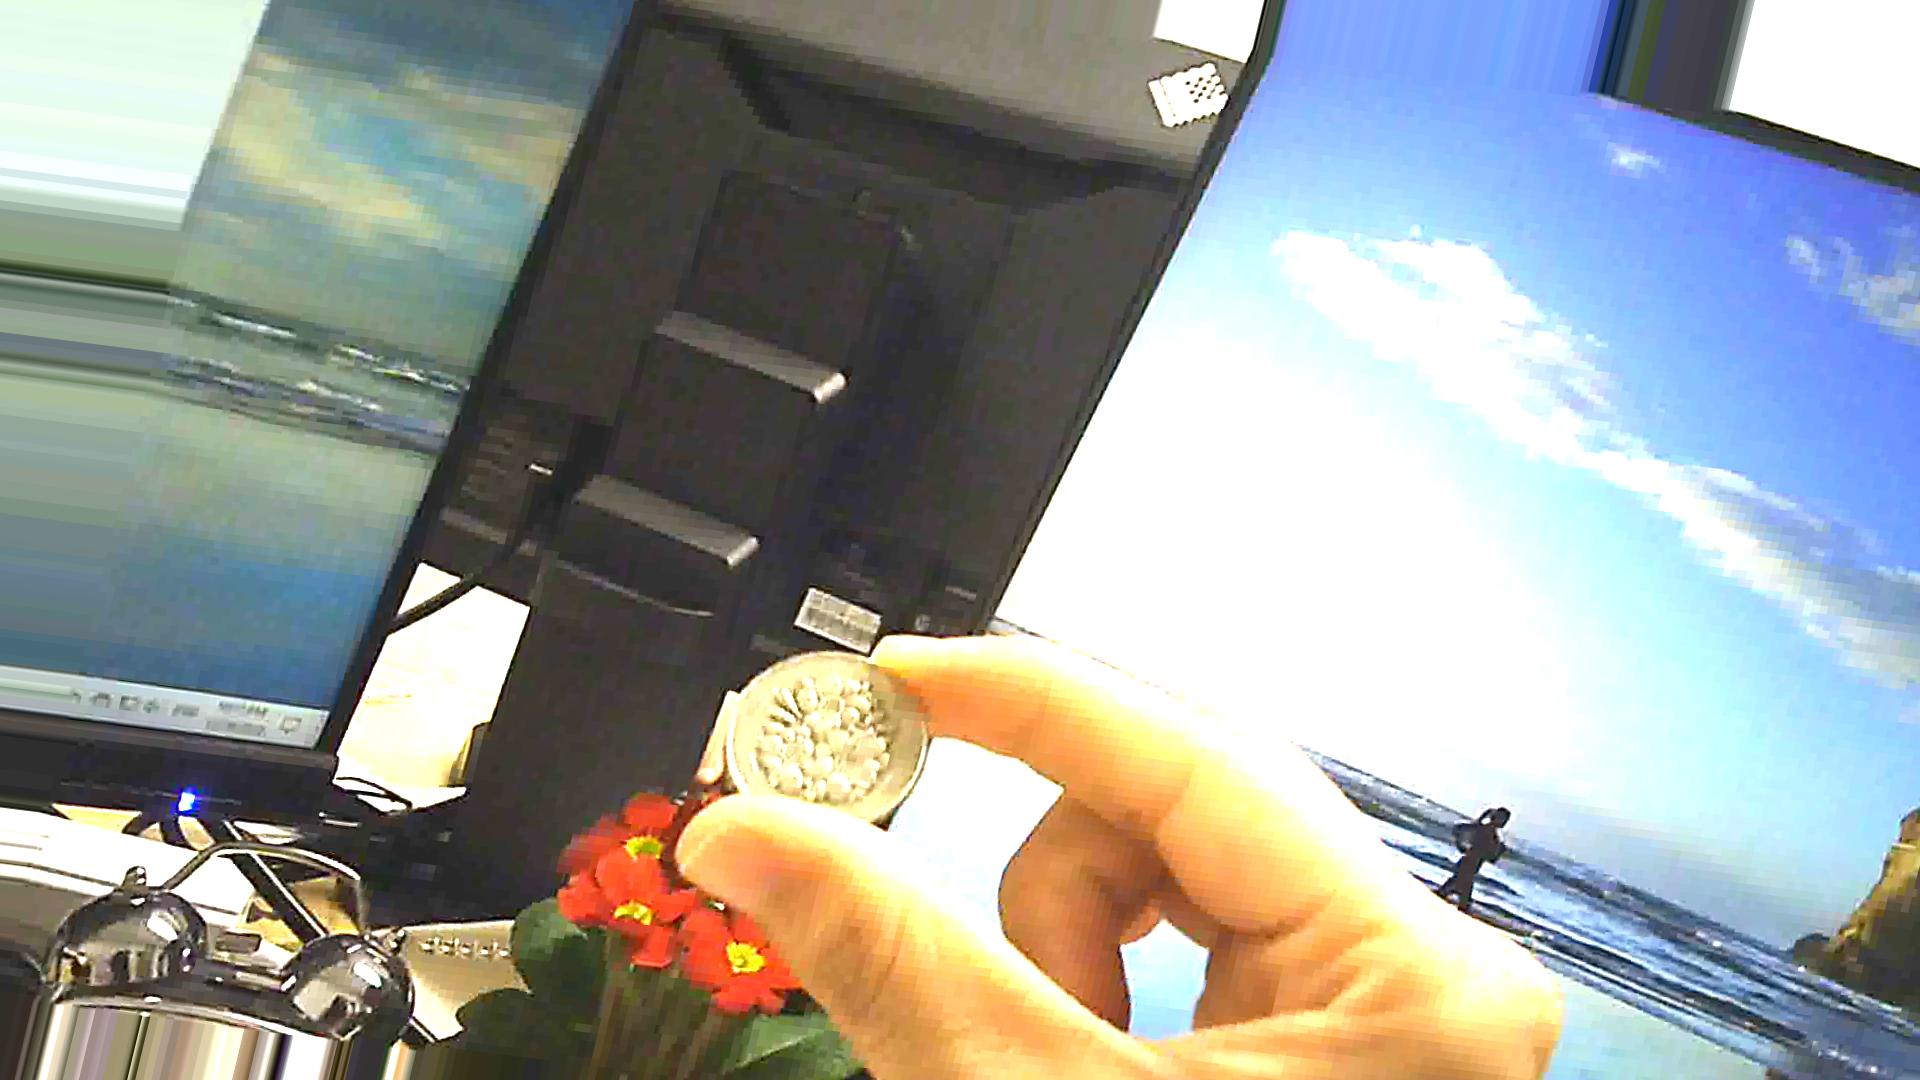100 Yen: (729, 650, 936, 851)
